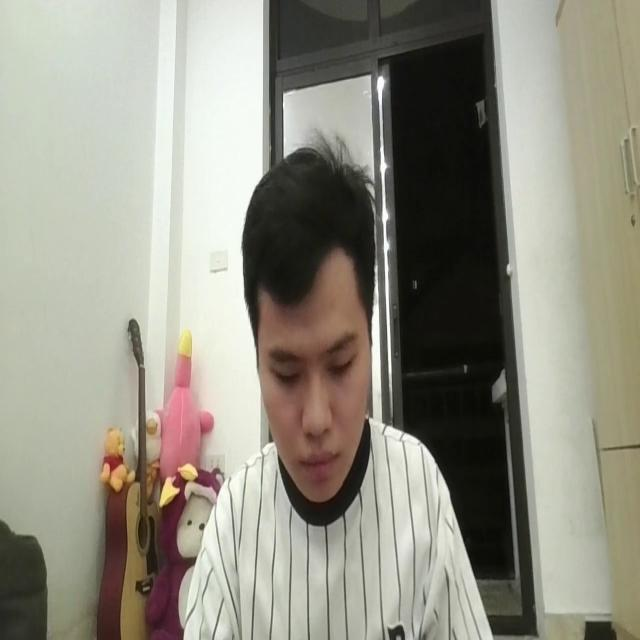student: (183, 146, 497, 640)
